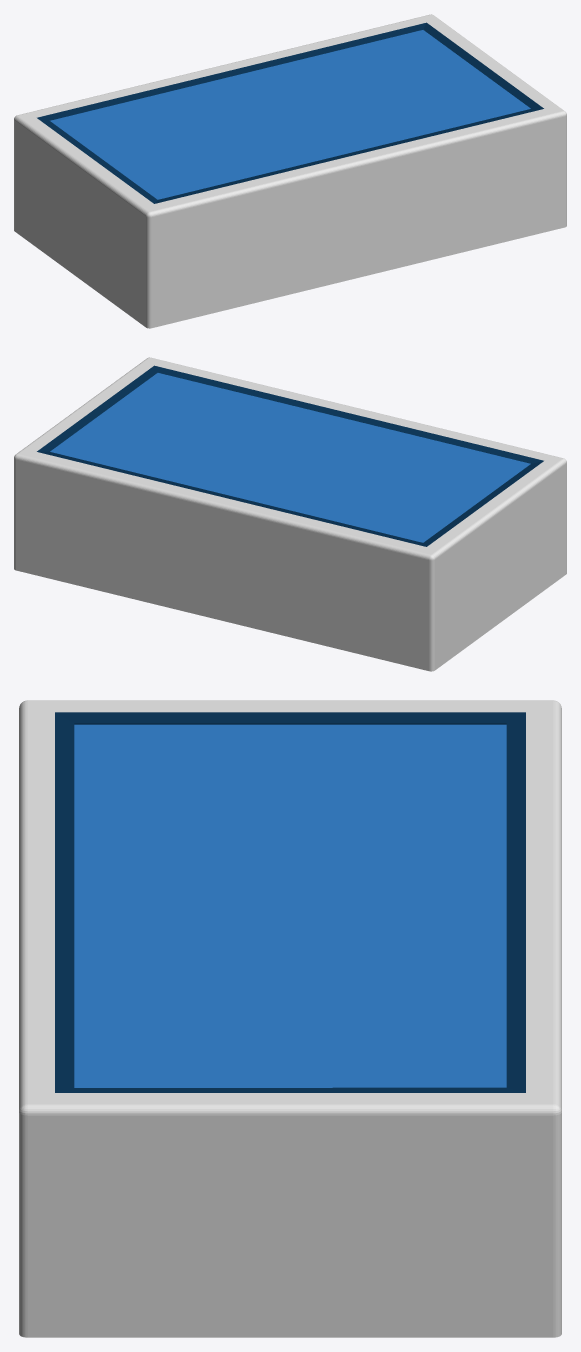
Rendered from mesa.fbx.
The picture shows the model from 3 angles, top to bottom: view 1: azimuth 30°, elevation 25°; view 2: azimuth 150°, elevation 25°; view 3: azimuth 270°, elevation 25°; orthographic projection. The views are drawn at different scales.
Parts seen in each view (by area): view 1: Borda Carom, Lona Carom, Quina Carom; view 2: Borda Carom, Lona Carom, Quina Carom; view 3: Borda Carom, Lona Carom, Quina Carom.
Part boxes in pixels (x1,y1,x2,y2): Borda Carom: [14, 14, 566, 328]; Lona Carom: [50, 30, 530, 199]; Quina Carom: [37, 22, 543, 203]; Borda Carom: [14, 357, 566, 671]; Lona Carom: [50, 373, 530, 542]; Quina Carom: [37, 365, 543, 546]; Borda Carom: [19, 700, 561, 1337]; Lona Carom: [74, 724, 506, 1087]; Quina Carom: [55, 712, 525, 1092].
Bounding box in the file's own units: 801 × 209 × 448.
